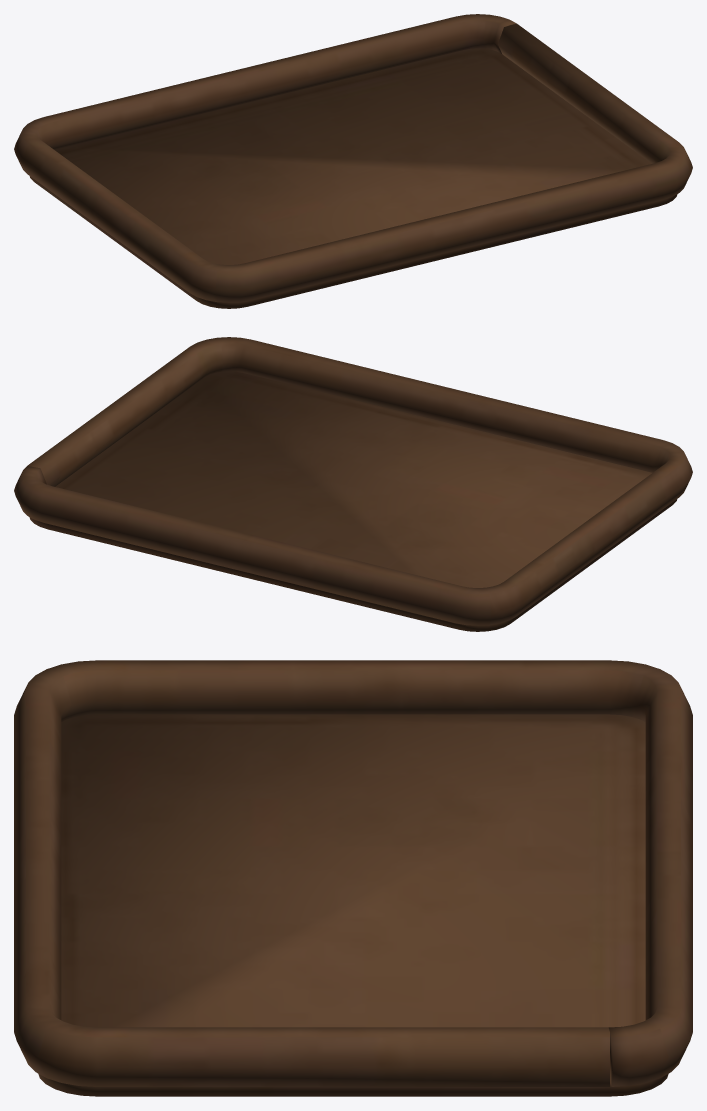
Rendered from tray_dark.glb.
The picture shows the model from 3 angles, top to bottom: view 1: azimuth 30°, elevation 25°; view 2: azimuth 150°, elevation 25°; view 3: azimuth 270°, elevation 25°; orthographic projection. The views are drawn at different scales.
Visible parts, largest first — view 1: prop_tray_dark_wood; view 2: prop_tray_dark_wood; view 3: prop_tray_dark_wood.
Boxes of the visible parts, left/top/right/bottom form: prop_tray_dark_wood: left=14, top=14, right=692, bottom=308; prop_tray_dark_wood: left=14, top=337, right=692, bottom=631; prop_tray_dark_wood: left=14, top=660, right=692, bottom=1096.
Bounding box in the file's own units: 0.928 × 0.0717 × 0.688.
1 material, 1 textured.
